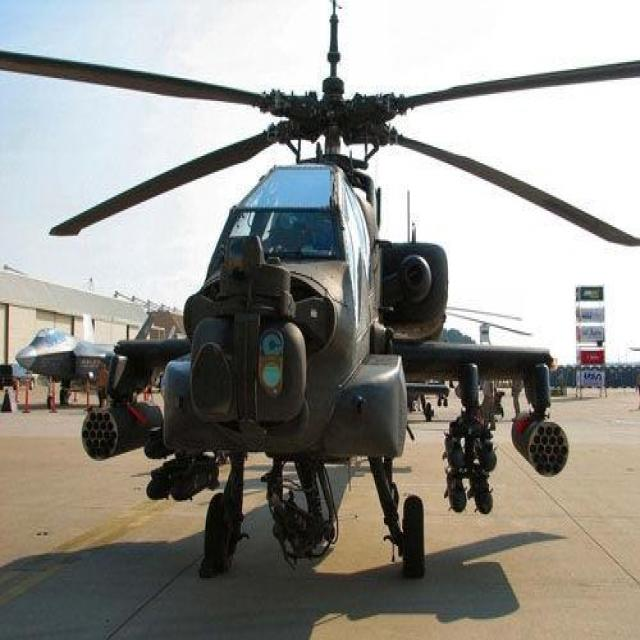MIL_HELO: (2, 3, 633, 575)
